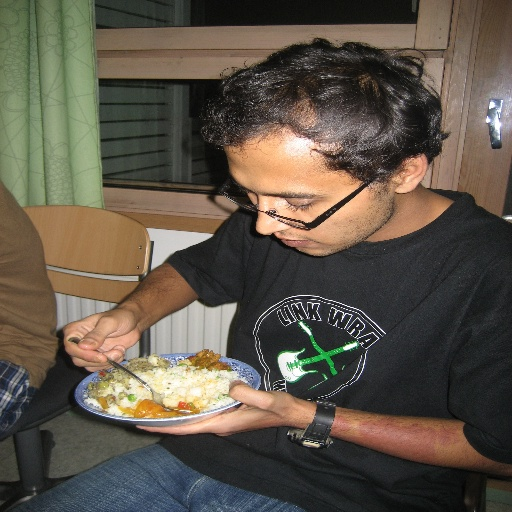hand: (133, 378, 304, 442), (61, 302, 142, 366)
